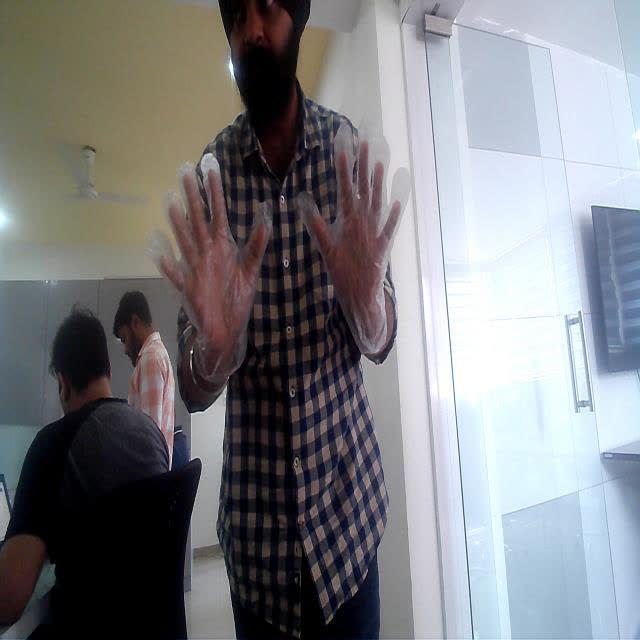with_gloves: (140, 125, 283, 388), (299, 99, 420, 403)
